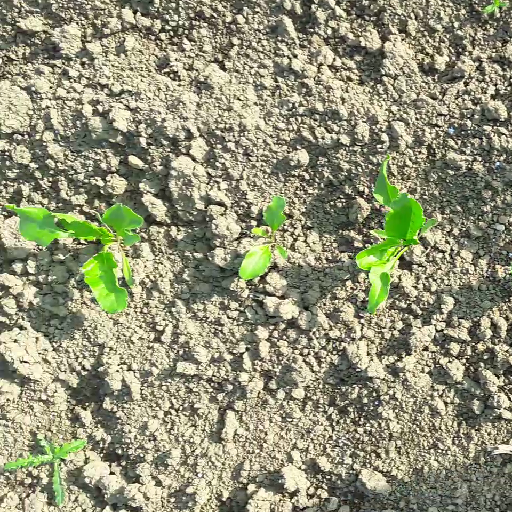sugarbeet: (4, 201, 145, 313), (351, 155, 438, 313), (235, 193, 289, 281)
weed: (4, 429, 87, 505), (481, 1, 509, 14)
